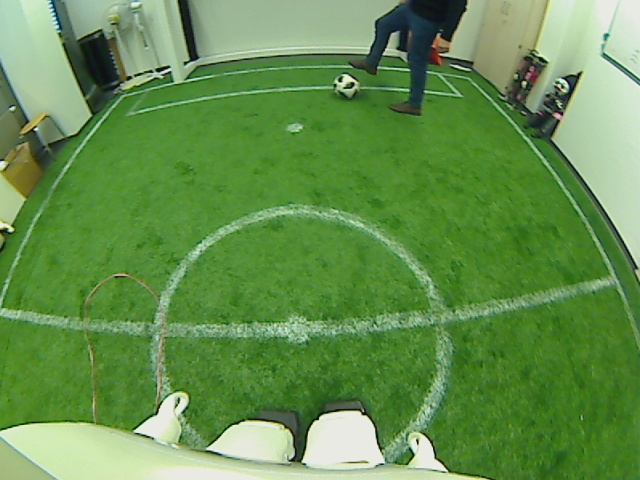ball: (332, 72, 360, 102)
